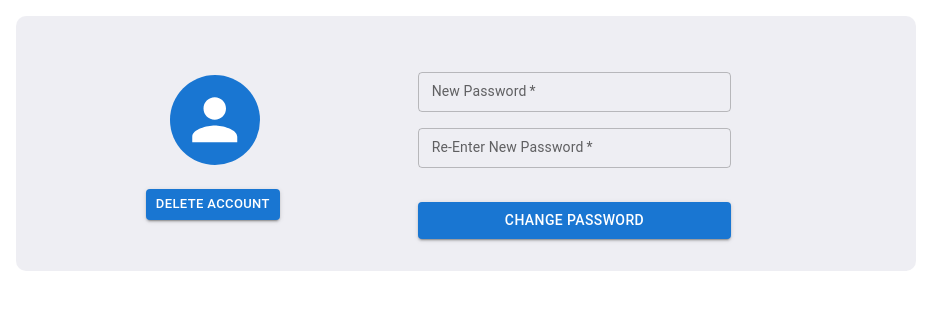
Test: Profile Page: Password Card tests › should show errors when typing only re-enter password
The width and height of the screenshot is (933, 336).
In the password field with test id "re-enter-password-field": [575, 148] box 418,128 -> 731,168, type "1"
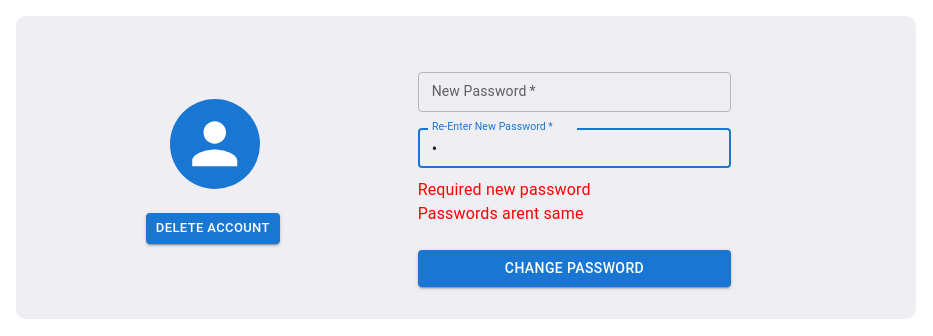
Now the text "Required new password" is shown, box 418,178 -> 591,202
